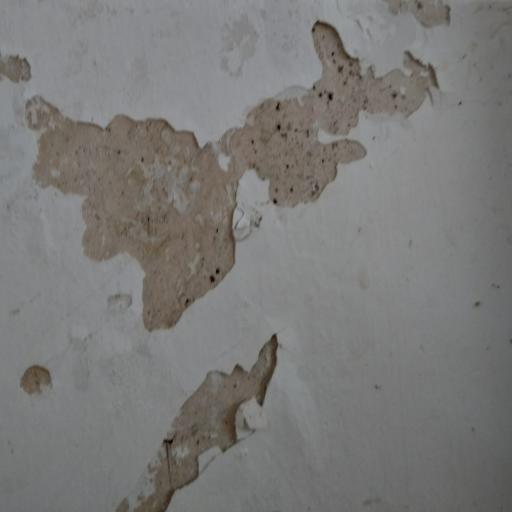peeling: (3, 15, 457, 512)
